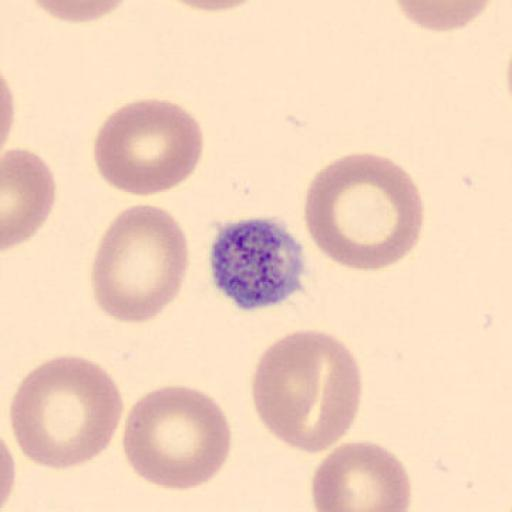Platelet: (205, 213, 308, 312)
RBC: (303, 150, 427, 274), (251, 328, 363, 455), (9, 354, 125, 471), (90, 202, 190, 324), (121, 384, 233, 492), (92, 97, 206, 198), (309, 438, 413, 512), (2, 146, 58, 252), (390, 0, 497, 34), (24, 0, 135, 24), (0, 430, 20, 512), (0, 70, 17, 152), (160, 0, 264, 13)
